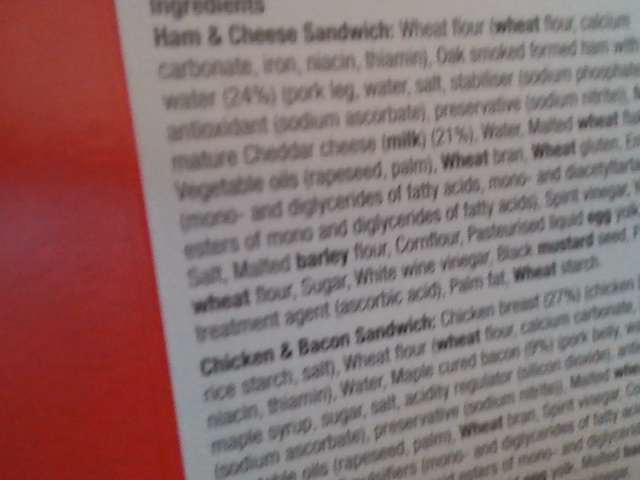chicken: (200, 350, 275, 372)
